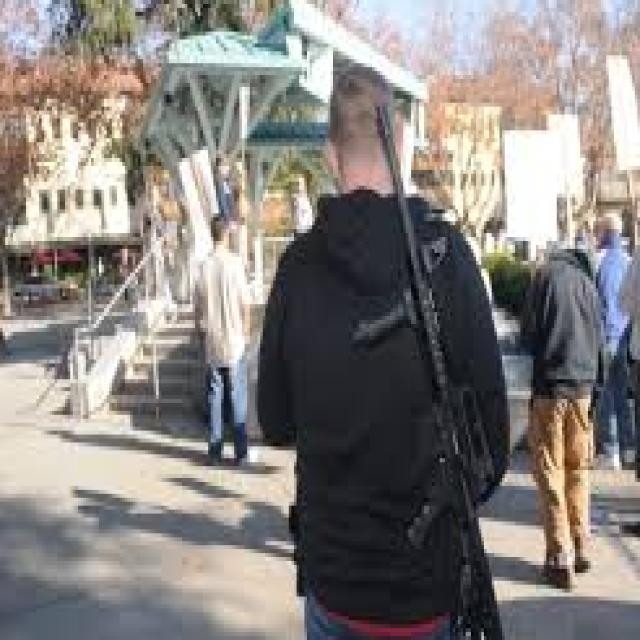gun: (357, 51, 528, 640)
